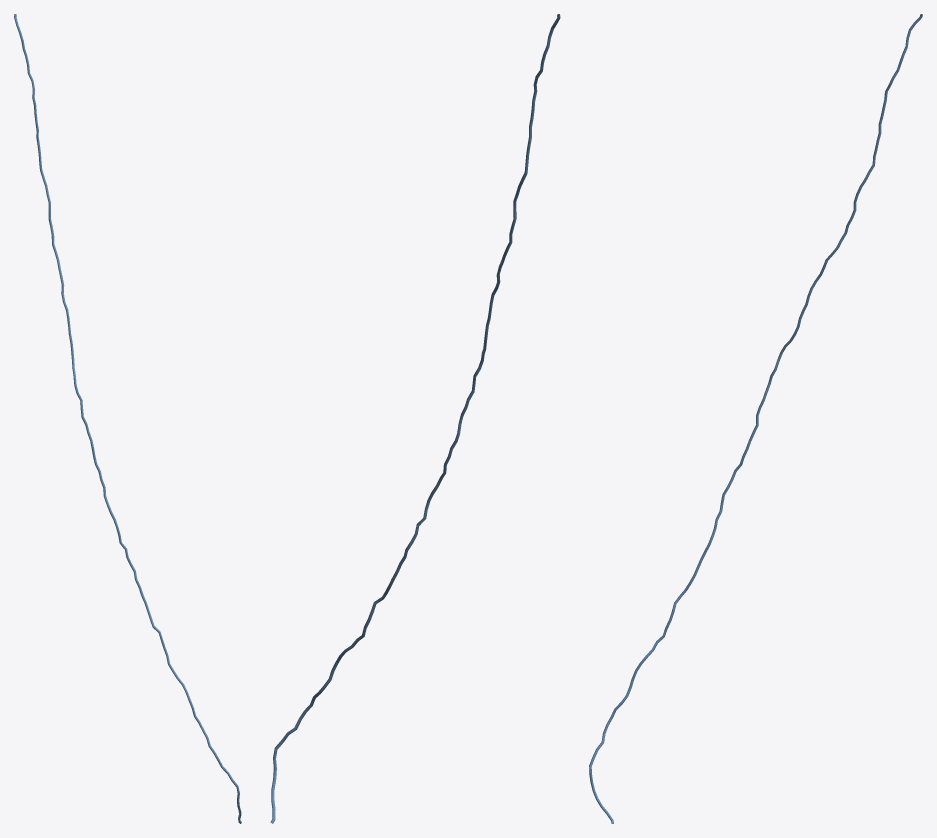
Rendered from sweep375.fbx.
3 views of the same model, side by side, from view 1: azimuth 30°, elevation 25°; view 2: azimuth 210°, elevation 25°; view 3: azimuth 270°, elevation 25° (orthographic). The views are drawn at different scales.
Parts seen in each view (by area): view 1: sweep375; view 2: sweep375; view 3: sweep375.
Part boxes in pixels (x1,y1,x2,y2): sweep375: (14,14,241,823); sweep375: (270,14,560,823); sweep375: (589,14,922,823).
Bounding box in the file's own units: 0.7982 × 6.26 × 2.46.
